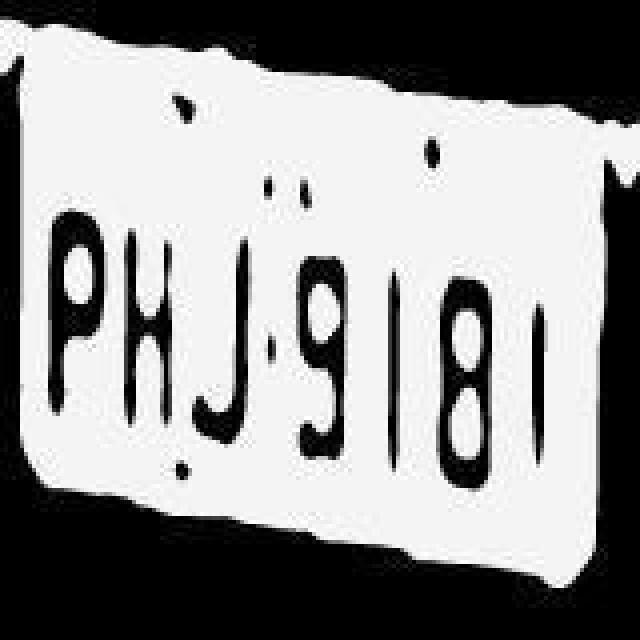1: (524, 256, 580, 504), (380, 250, 428, 510)
8: (430, 226, 506, 518)
9: (292, 248, 372, 512)
H: (108, 194, 188, 446)
J: (190, 226, 266, 462)
P: (34, 176, 110, 432)
